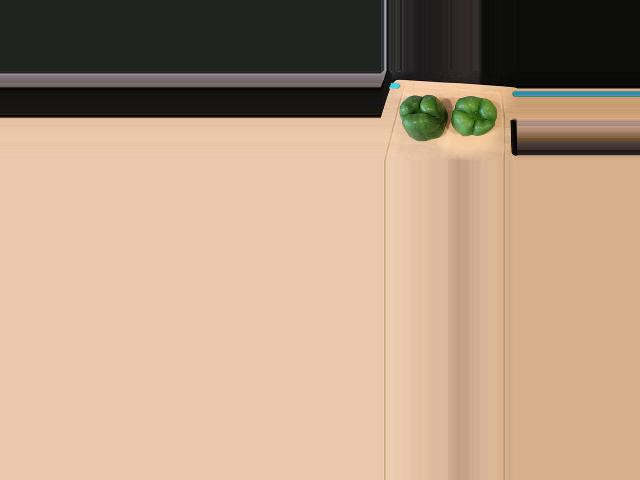bell_pepper: (449, 95, 496, 141)
